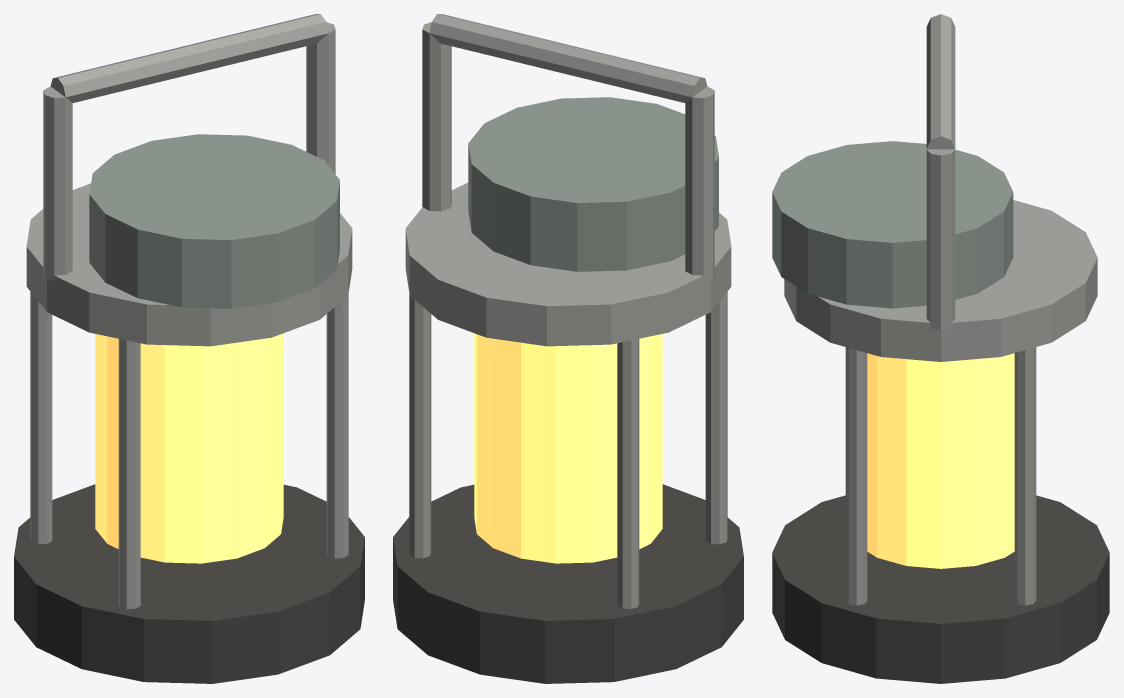
The model's file is signal-house-caged-storm-lantern__205.glb.
The picture shows the model from 3 angles, left to right: view 1: azimuth 30°, elevation 25°; view 2: azimuth 150°, elevation 25°; view 3: azimuth 270°, elevation 25°; orthographic projection. The views are drawn at different scales.
Parts seen in each view (by area): view 1: metal, dark, shell, light; view 2: metal, dark, light, shell; view 3: metal, dark, light, shell.
Part boxes in pixels (x1,y1,x2,y2): metal: (26,14,352,609); dark: (14,484,364,683); shell: (89,134,339,308); light: (95,333,283,563); metal: (405,14,731,609); dark: (393,484,743,683); light: (474,333,662,563); shell: (468,97,718,271); metal: (784,14,1097,605); dark: (772,495,1109,683); light: (867,353,1014,568); shell: (772,141,1013,308).
Size of the model in its own units: 0.28 by 0.492 by 0.28.
